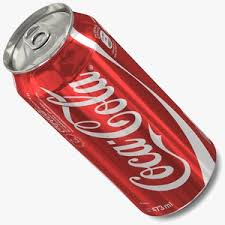can: (0, 1, 220, 221)
